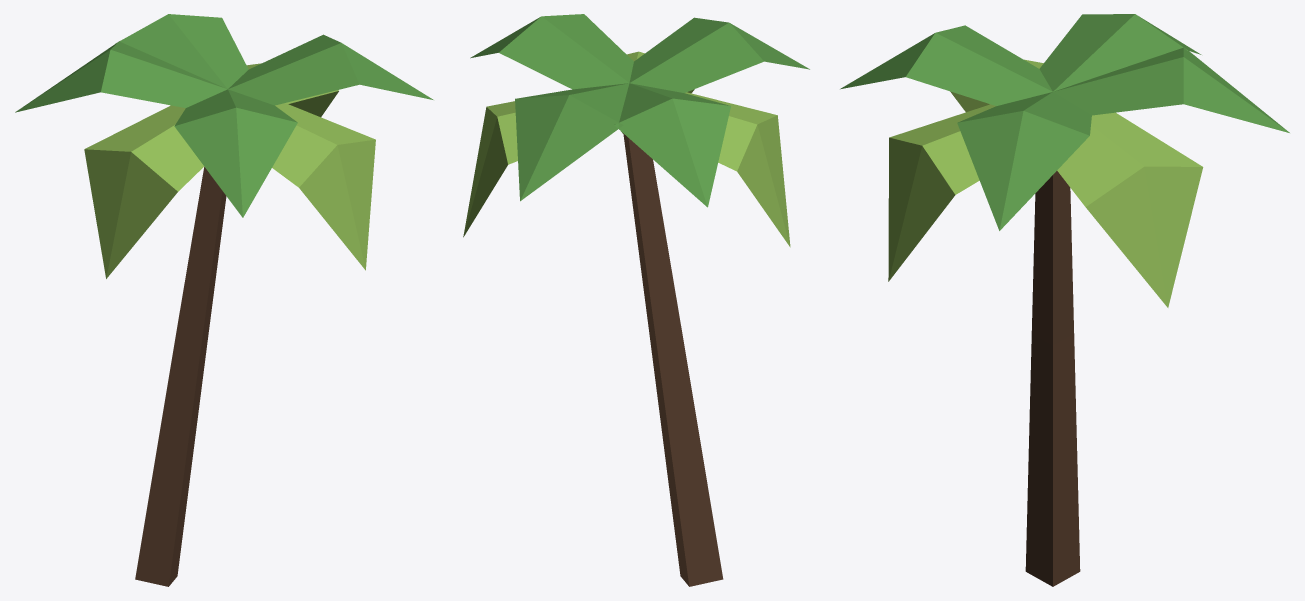
The model's file is palm_a_lod.glb.
3 renders of one model, left to right at view 1: azimuth 30°, elevation 25°; view 2: azimuth 150°, elevation 25°; view 3: azimuth 270°, elevation 25°, orthographic. The views are drawn at different scales.
Visible parts, largest first — view 1: Body; view 2: Body; view 3: Body.
Boxes of the visible parts, left/top/right/bottom form: Body: left=15, top=14, right=433, bottom=586; Body: left=463, top=14, right=809, bottom=586; Body: left=840, top=14, right=1289, bottom=586.
Size of the model in its own units: 5.5 by 8.12 by 5.96.
